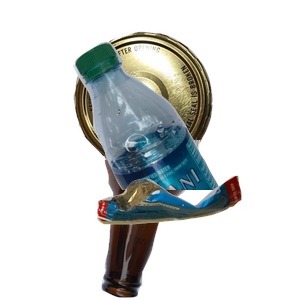glass: (99, 140, 300, 300)
metal: (71, 29, 276, 193)
plastic: (71, 39, 300, 219)
trash: (94, 173, 300, 300)
